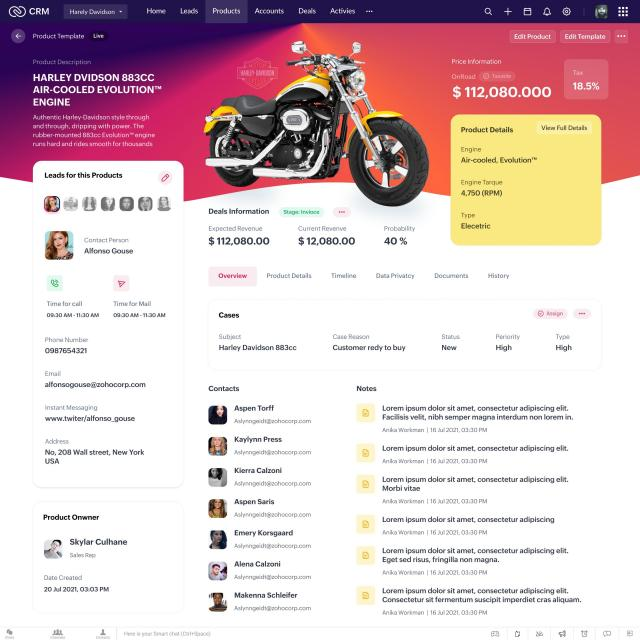button: (561, 30, 611, 44), (510, 30, 556, 44), (533, 308, 568, 319)
